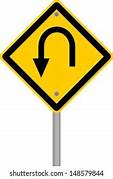back: (1, 1, 113, 113)
